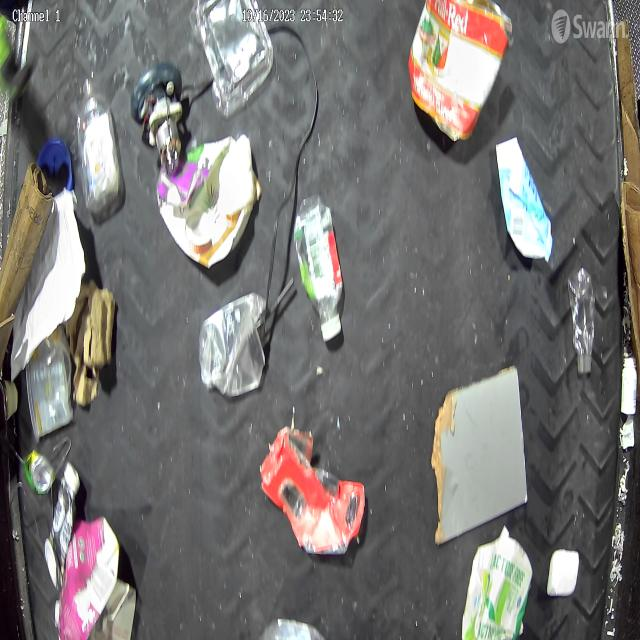can: (406, 1, 514, 142), (23, 451, 54, 493)
non_white_jug: (156, 133, 255, 269), (53, 514, 120, 640), (462, 537, 534, 640), (496, 137, 554, 262)
plastic_bottle: (293, 198, 341, 338), (570, 266, 597, 375)
